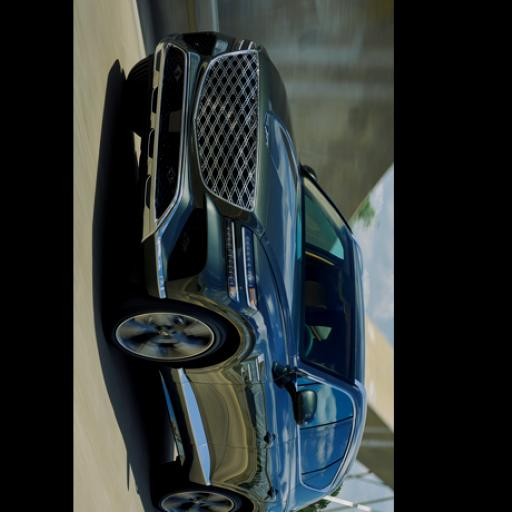suv: (105, 32, 365, 512)
